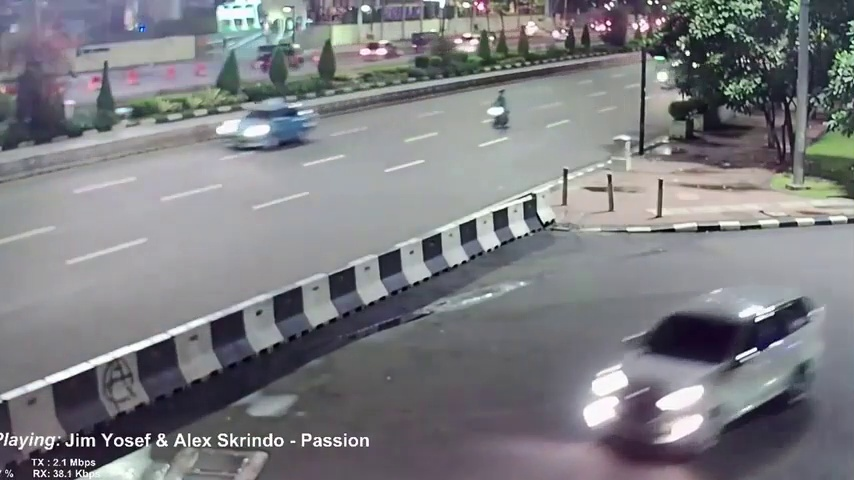car: (588, 282, 829, 457), (221, 98, 310, 152)
motorbike: (489, 88, 509, 130)
